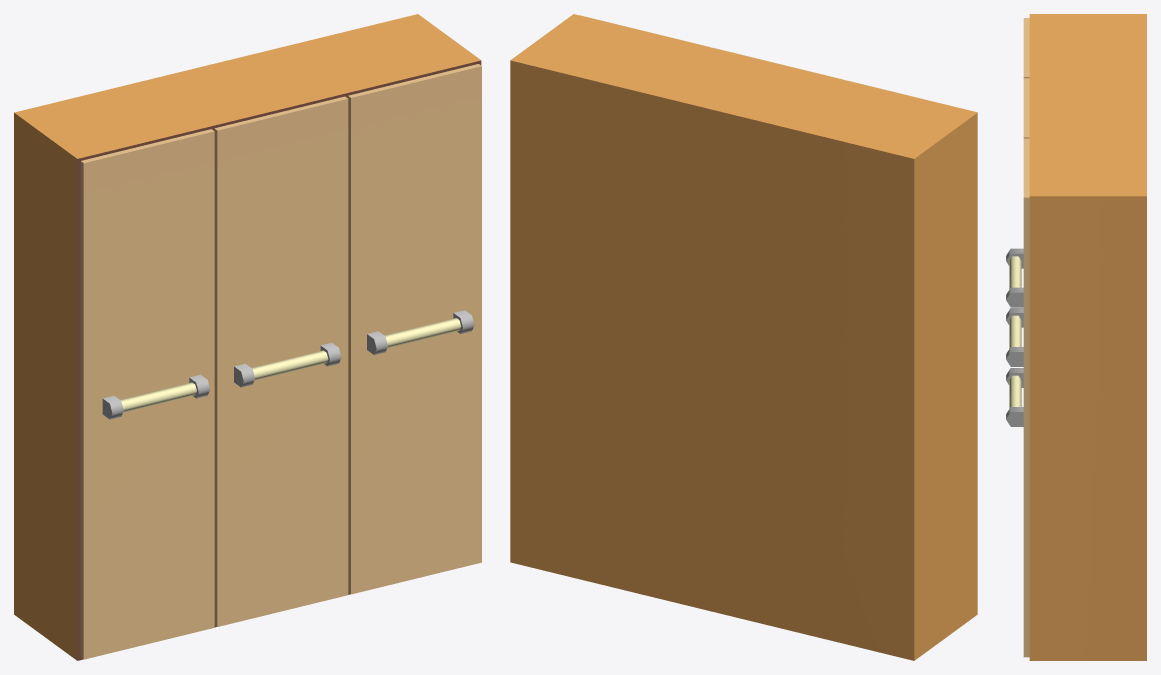
File: closet_021.glb
3 views of the same model, side by side, from view 1: azimuth 30°, elevation 25°; view 2: azimuth 150°, elevation 25°; view 3: azimuth 270°, elevation 25° (orthographic). The views are drawn at different scales.
Visible parts, largest first — view 1: closet_021; view 2: closet_021; view 3: closet_021.
Part boxes in pixels (x1,y1,x2,y2): closet_021: (14,14,481,660); closet_021: (510,14,977,660); closet_021: (1006,14,1146,660).
Bounding box in the file's own units: 2.1 × 2.49 × 0.6854.
1 material, 1 textured.
